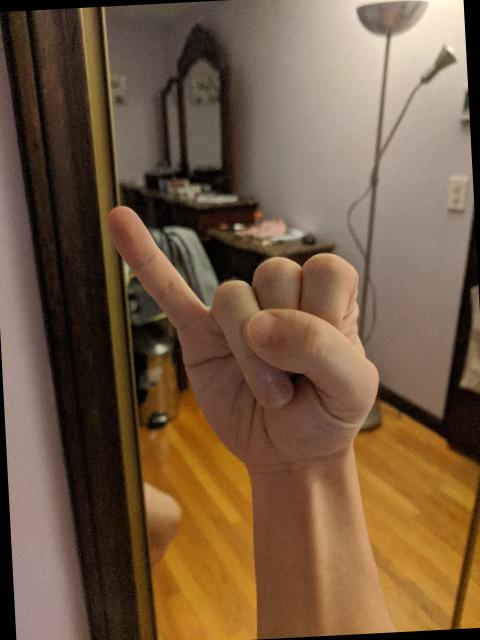I: (100, 186, 388, 484)
